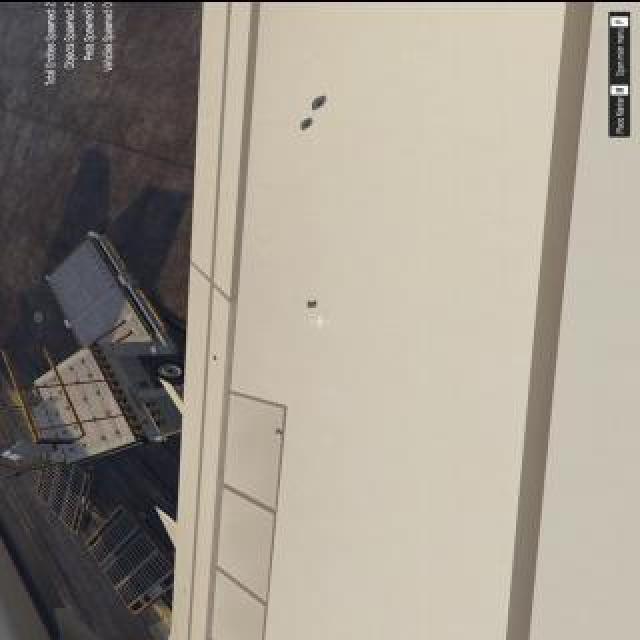crack: (297, 115, 317, 129), (309, 95, 329, 107), (303, 299, 319, 307), (274, 427, 284, 435), (212, 354, 220, 358)
